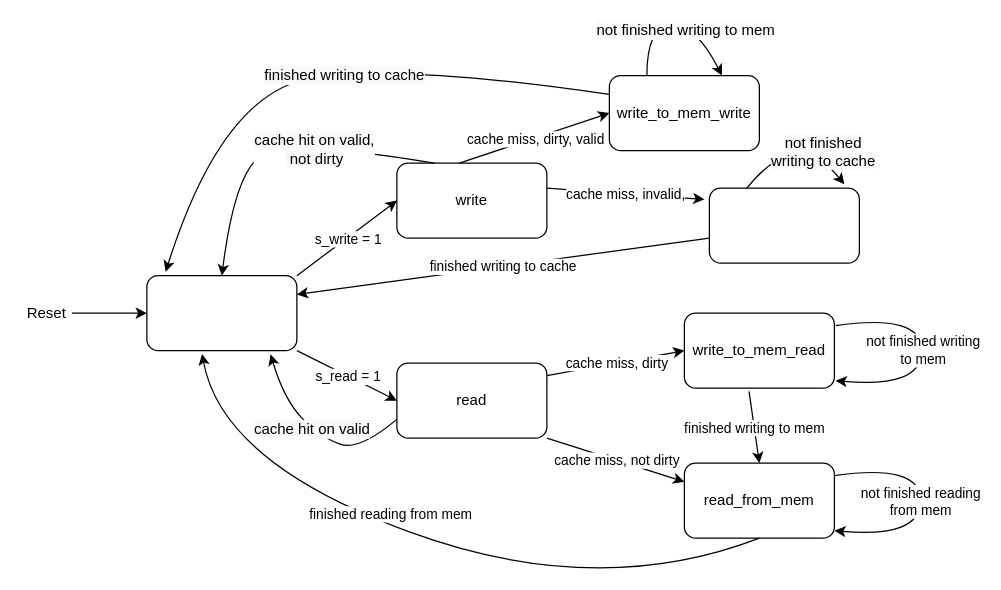
This 1001x590 diagram has some shape labels left out. Here are the shapes that lost their labels. From the top down, the centre of each, then its label:
At (x=783, y=225): "get_from_mem_write".
At (x=221, y=312): "idle".
